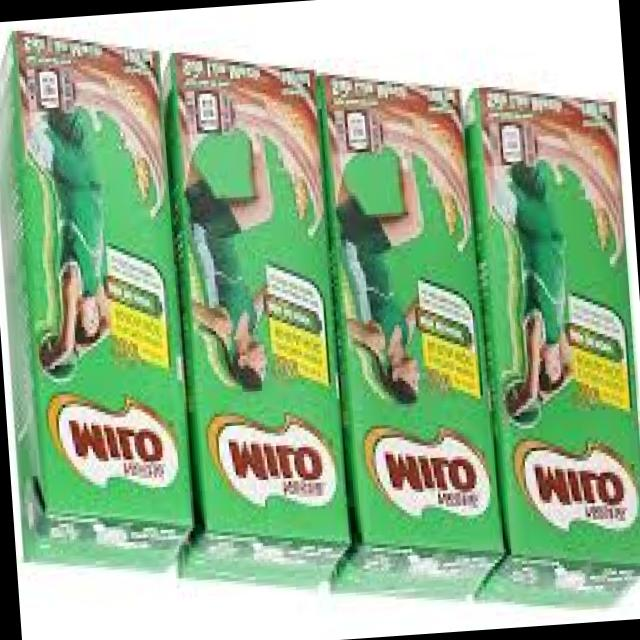sua milo: (293, 46, 510, 628), (141, 36, 359, 609), (0, 23, 200, 594), (437, 69, 640, 625)
